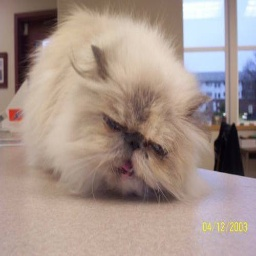cat: (20, 17, 213, 205)
